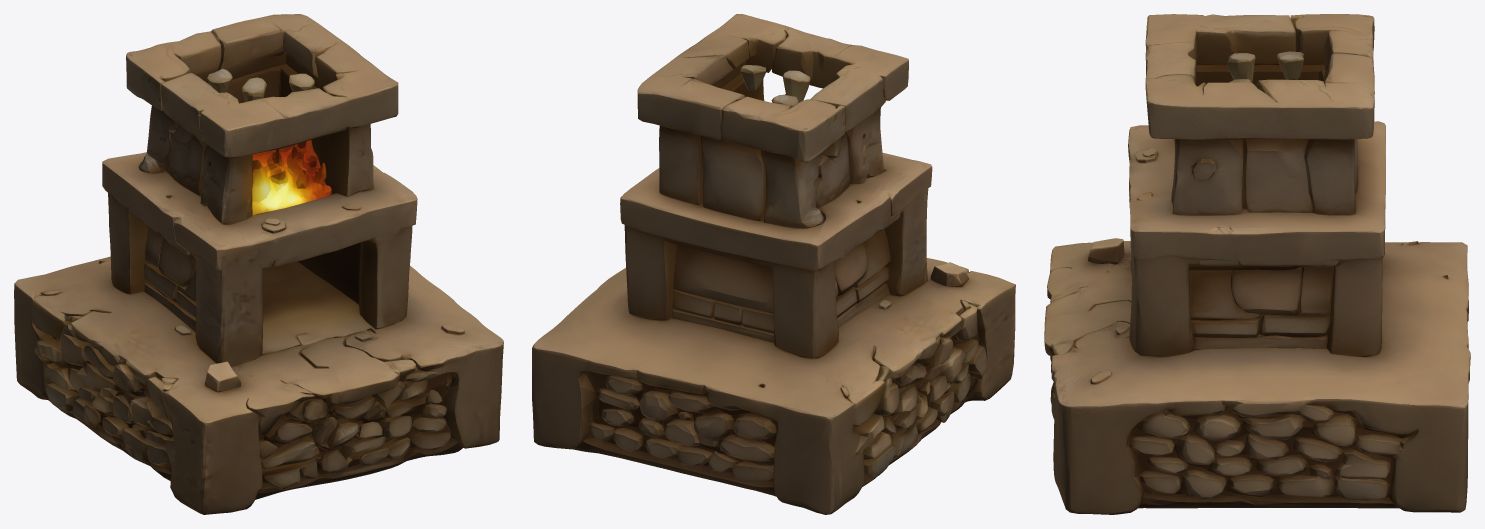
File: source.glb
3 renders of one model, left to right at view 1: azimuth 30°, elevation 25°; view 2: azimuth 150°, elevation 25°; view 3: azimuth 270°, elevation 25°, orthographic. The views are drawn at different scales.
Parts seen in each view (by area): view 1: model; view 2: model; view 3: model.
Boxes of the visible parts, x1,y1,x2,y2 form: model: (14, 14, 503, 514); model: (532, 14, 1015, 514); model: (1044, 14, 1470, 514).
Size of the model in its own units: 1.81 by 1.9 by 1.91.
Materials: 1 (1 with a texture image).
